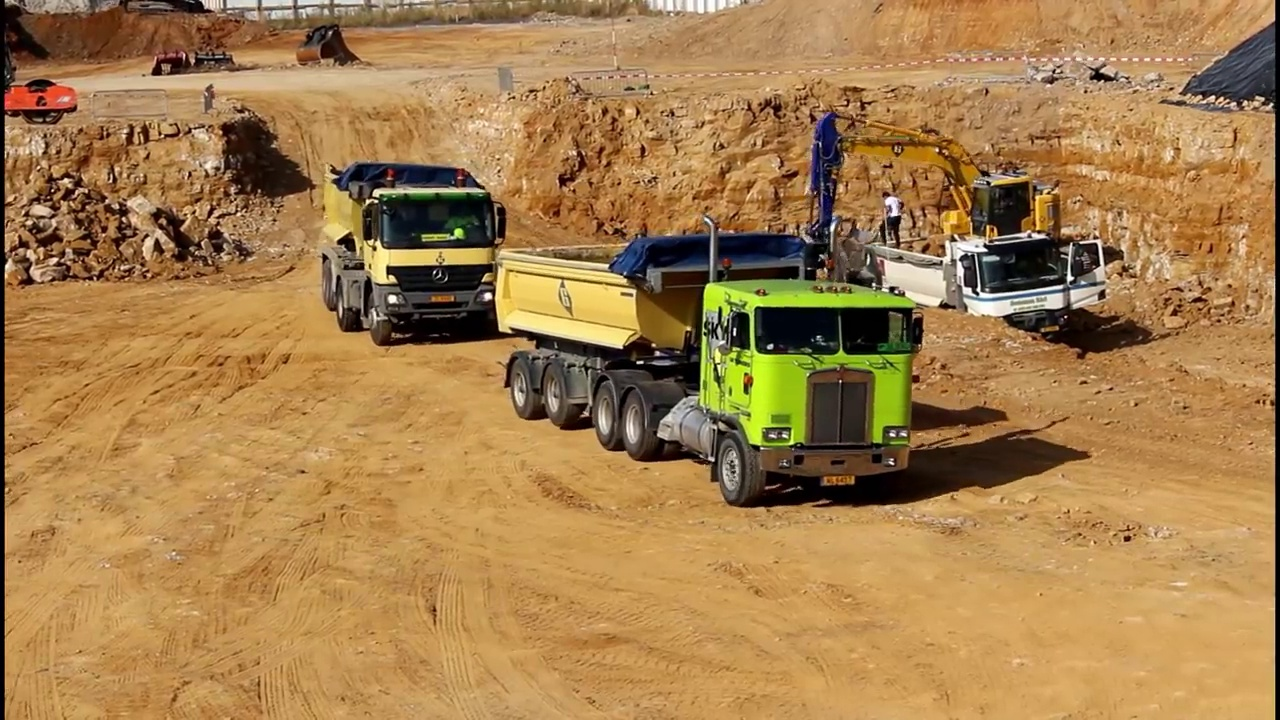compactor: (3, 76, 81, 128)
excavator: (789, 109, 1079, 317)
truck: (492, 213, 929, 507), (317, 157, 510, 350), (874, 228, 1113, 350)
worker: (879, 186, 912, 252)
